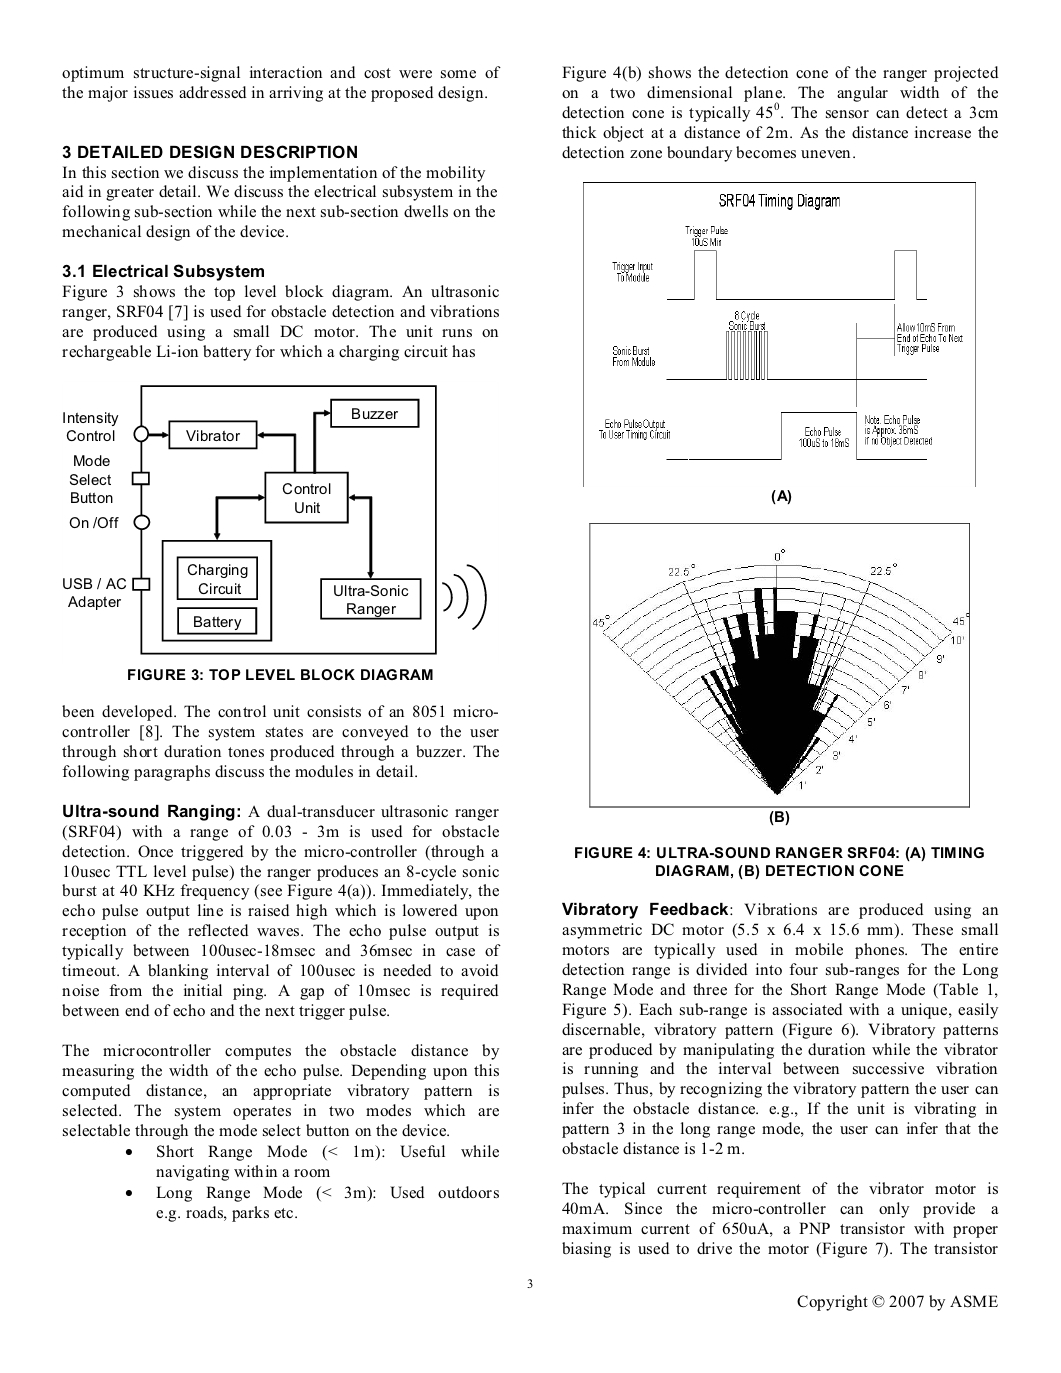figure: (583, 181, 975, 487), (588, 522, 968, 826), (64, 384, 486, 655)
